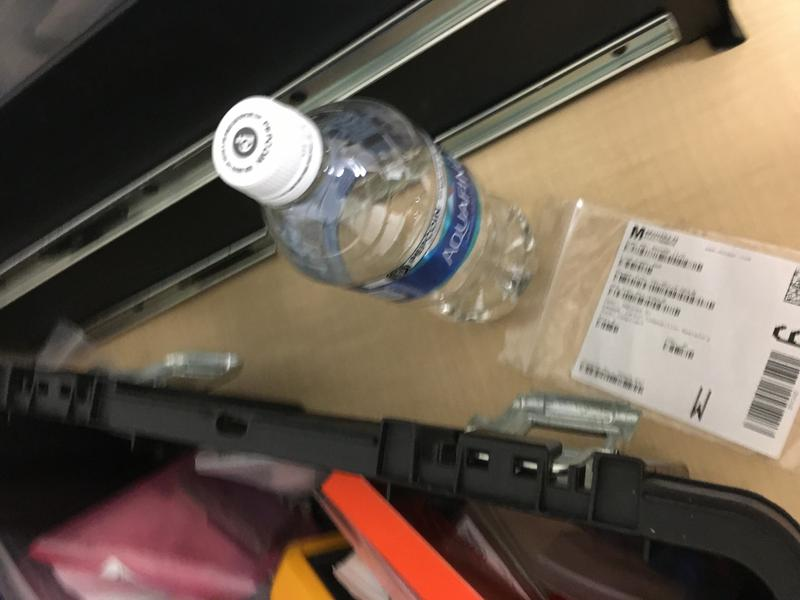bottle: (210, 97, 542, 331)
